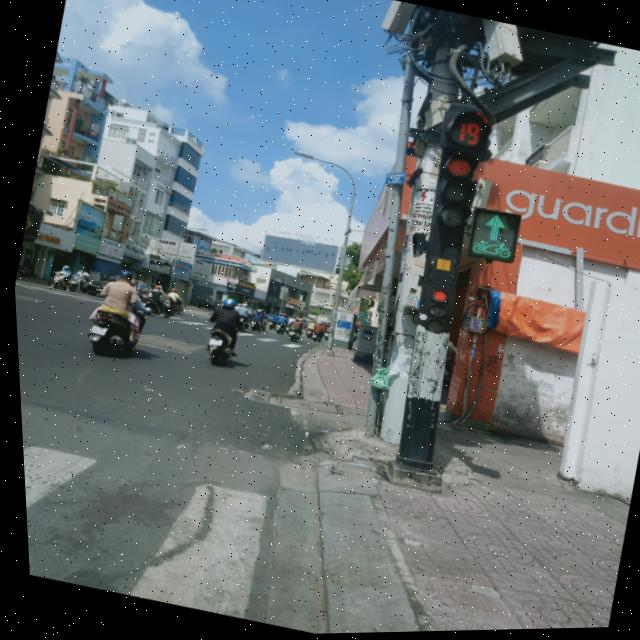Red: (423, 144, 482, 238), (408, 282, 454, 332)
